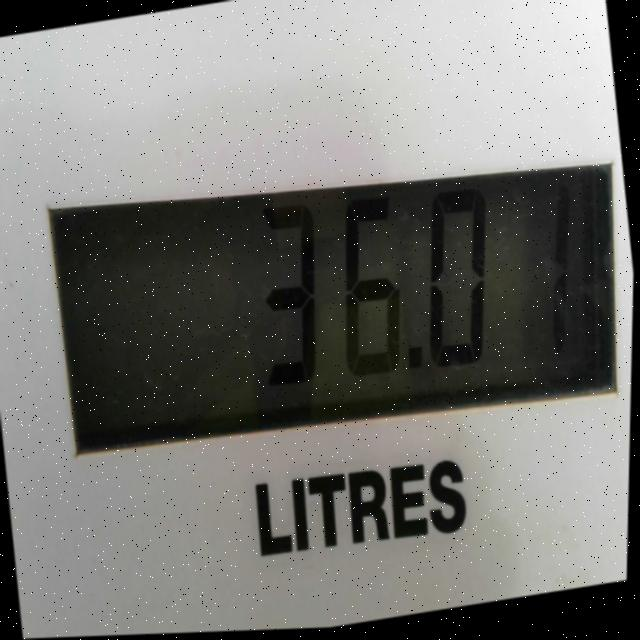.: (401, 344, 433, 393)
0: (408, 183, 503, 390)
1: (518, 178, 599, 366)
3: (249, 192, 342, 405)
6: (322, 192, 418, 399)
